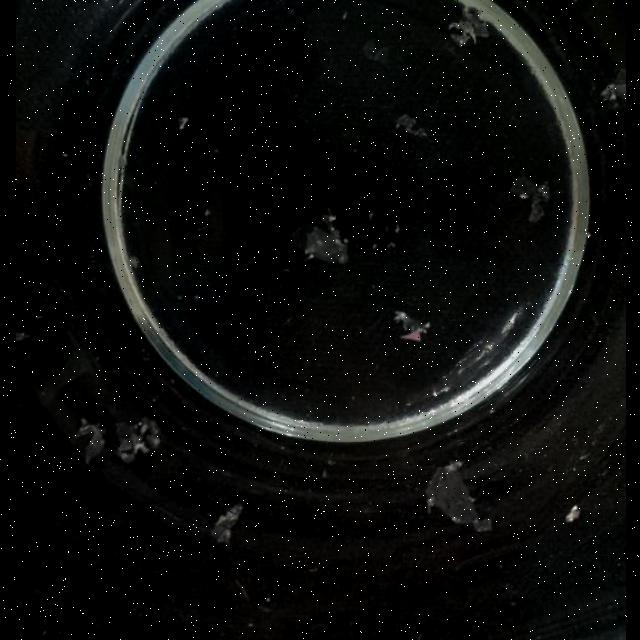Fibre: (290, 212, 348, 264), (597, 67, 625, 106), (394, 114, 428, 140), (360, 38, 390, 66), (498, 310, 520, 338), (564, 504, 580, 522), (125, 256, 138, 270), (176, 116, 188, 130), (15, 332, 25, 341), (341, 12, 347, 21)
Fragment: (425, 460, 489, 530), (114, 418, 158, 462), (509, 176, 549, 222), (448, 6, 489, 48), (71, 420, 105, 464), (210, 504, 242, 548), (393, 310, 429, 340)
microbeads: (196, 225, 208, 232), (430, 389, 440, 397), (386, 242, 394, 250), (202, 208, 210, 216), (367, 212, 373, 220), (394, 225, 400, 233), (371, 243, 377, 250), (585, 232, 591, 238)
